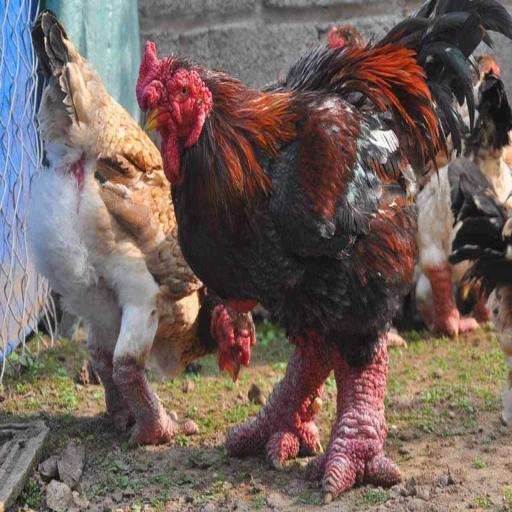disease: (131, 31, 218, 172)
